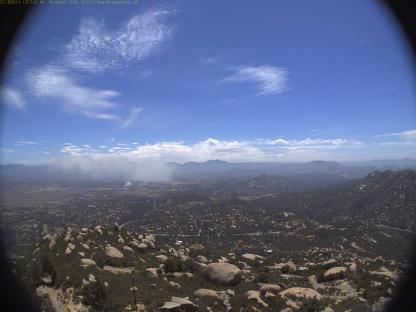smoke: (49, 150, 171, 188)
